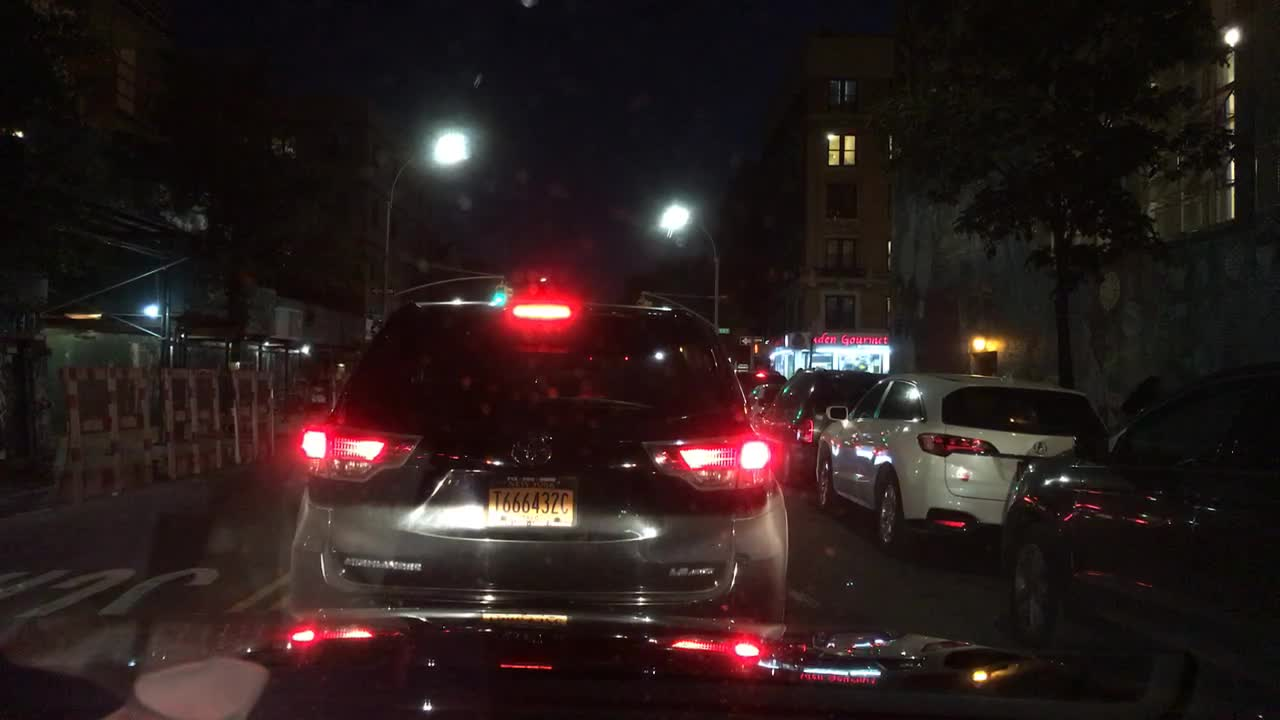car: (289, 299, 788, 635), (1003, 360, 1278, 691), (816, 369, 1115, 555), (761, 368, 885, 489), (746, 383, 784, 427), (736, 370, 787, 396)
traffic light: (495, 285, 505, 301)
traffic sign: (741, 334, 766, 344), (718, 326, 728, 334)
